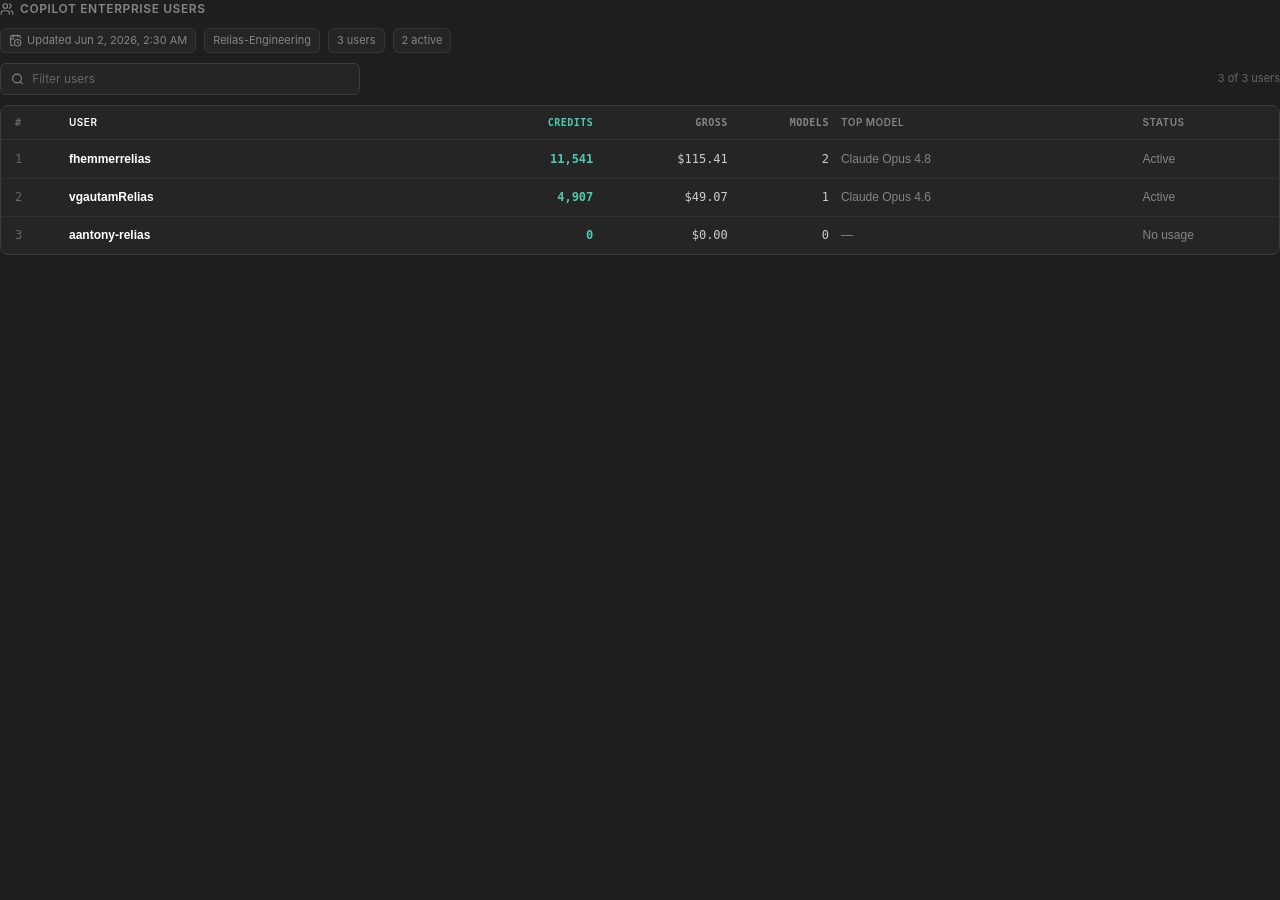
Test: TopUsersSection › opens the source JSON modal when a user row is clicked
Click the button titled "View source JSON for fhemmerrelias".
click(110, 158)  # box 1,140 -> 1279,178
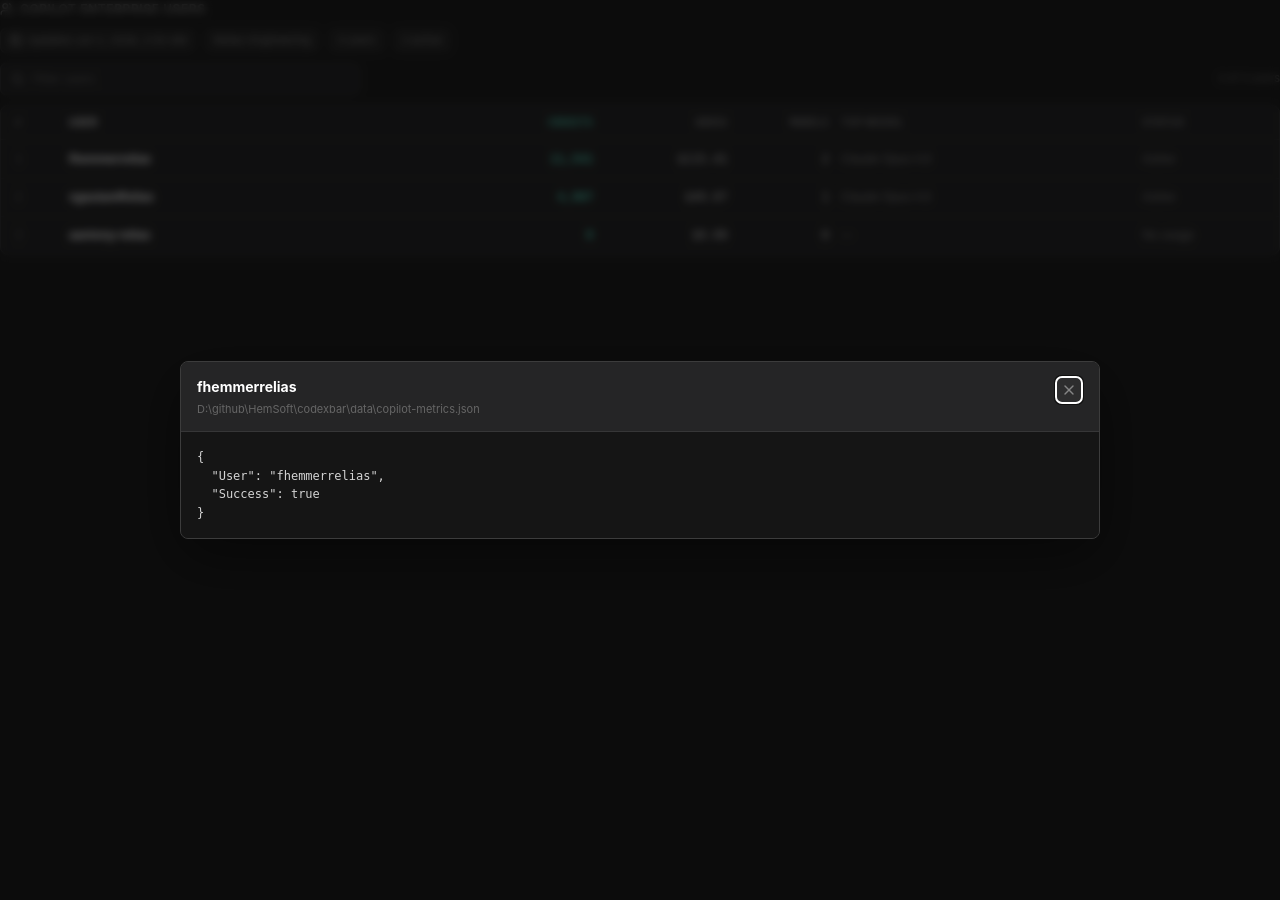
Check: the dialog "fhemmerrelias" is shown, box 180,361 -> 1100,540
Check: the text "D:\\github\\HemSoft\\codexbar\\data\\copilot-metrics.json" is shown, box 197,401 -> 480,417
Check: the text "{ \"User\": \"fhemmerrelias\", \"Success\": true }" is shown, box 181,432 -> 1099,538
